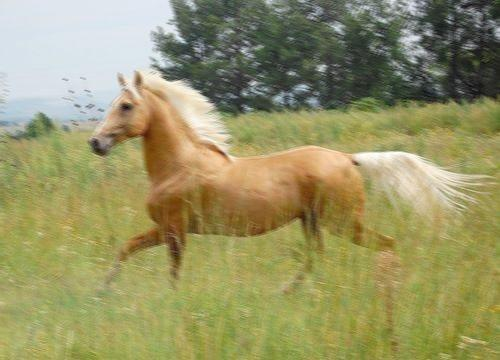horse: (86, 67, 497, 296)
